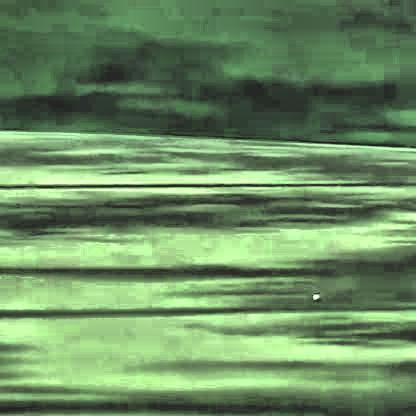golfball: (309, 288, 319, 299)
